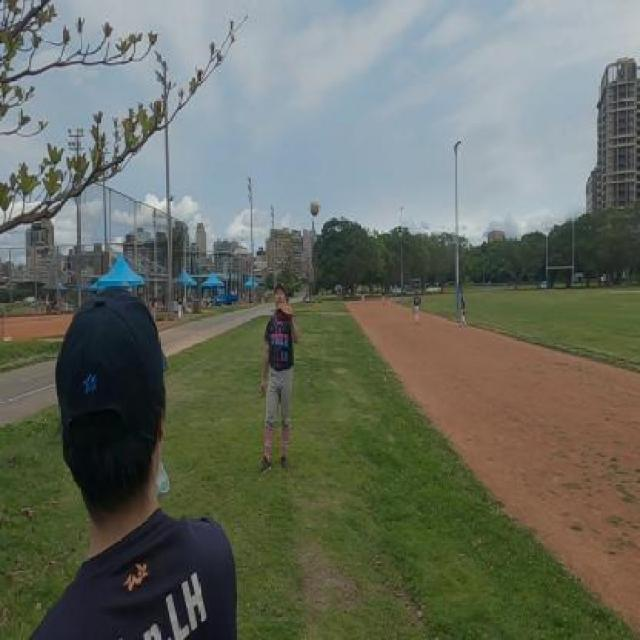baseball: (310, 200, 319, 217)
